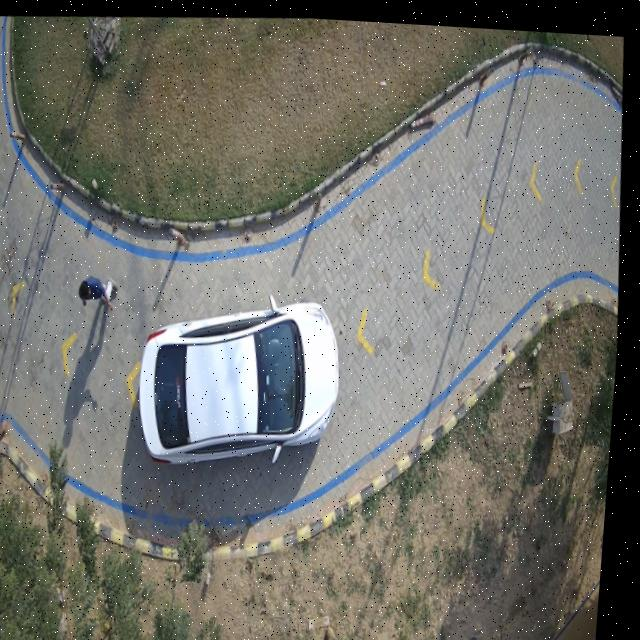car: (141, 299, 347, 466)
